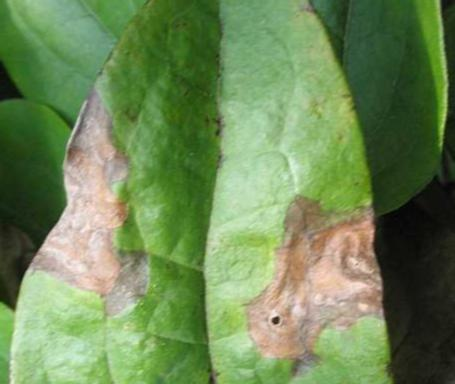Tomato leaf bacterial spot: (3, 0, 386, 384)
